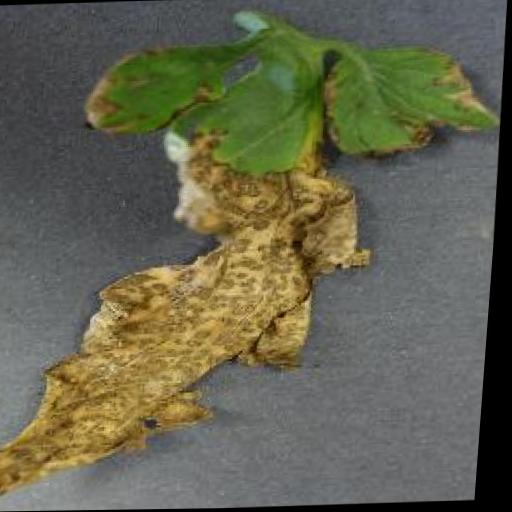Bacterial Spot: (0, 25, 510, 510)
